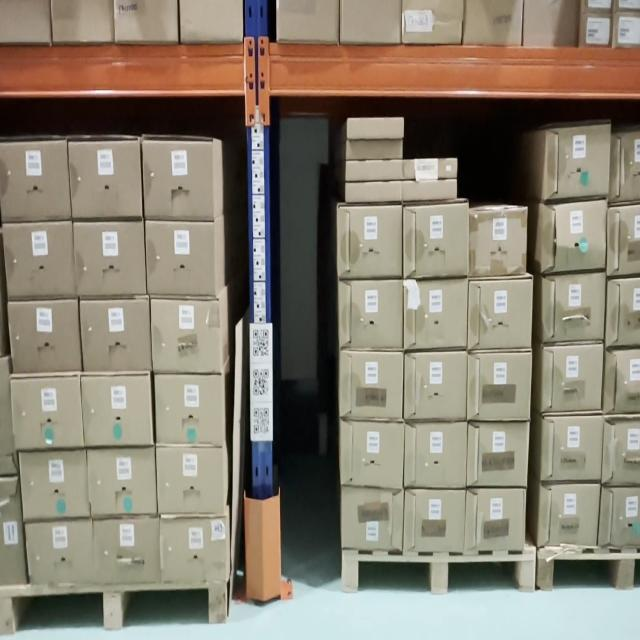box: (73, 138, 139, 217), (146, 140, 213, 217), (147, 223, 215, 297), (3, 141, 65, 222), (5, 228, 74, 298), (544, 198, 606, 272), (77, 225, 144, 293), (84, 301, 150, 370), (12, 379, 80, 445), (338, 206, 402, 276), (155, 377, 222, 443), (88, 450, 156, 515), (11, 306, 80, 370), (154, 303, 218, 371), (405, 280, 467, 350), (541, 276, 605, 343), (86, 376, 149, 444), (404, 205, 467, 273), (541, 343, 603, 412), (339, 281, 402, 348), (470, 279, 530, 347), (468, 352, 530, 417), (541, 417, 603, 482), (341, 423, 403, 487), (538, 485, 600, 549), (25, 452, 85, 518), (161, 521, 228, 579), (160, 451, 222, 513), (341, 354, 403, 416), (548, 130, 608, 194), (406, 355, 466, 418), (469, 209, 526, 275), (405, 425, 466, 486), (342, 488, 402, 550), (95, 523, 158, 582), (465, 491, 524, 552), (29, 526, 93, 580), (469, 423, 525, 484), (407, 491, 462, 552), (0, 478, 27, 587), (597, 487, 640, 549), (602, 416, 640, 486), (603, 347, 640, 414), (606, 278, 640, 347), (608, 204, 640, 276), (609, 131, 640, 203), (0, 359, 18, 476), (346, 161, 402, 181), (348, 118, 402, 137), (403, 159, 457, 178), (347, 141, 402, 158), (346, 184, 400, 200), (403, 183, 455, 197)
